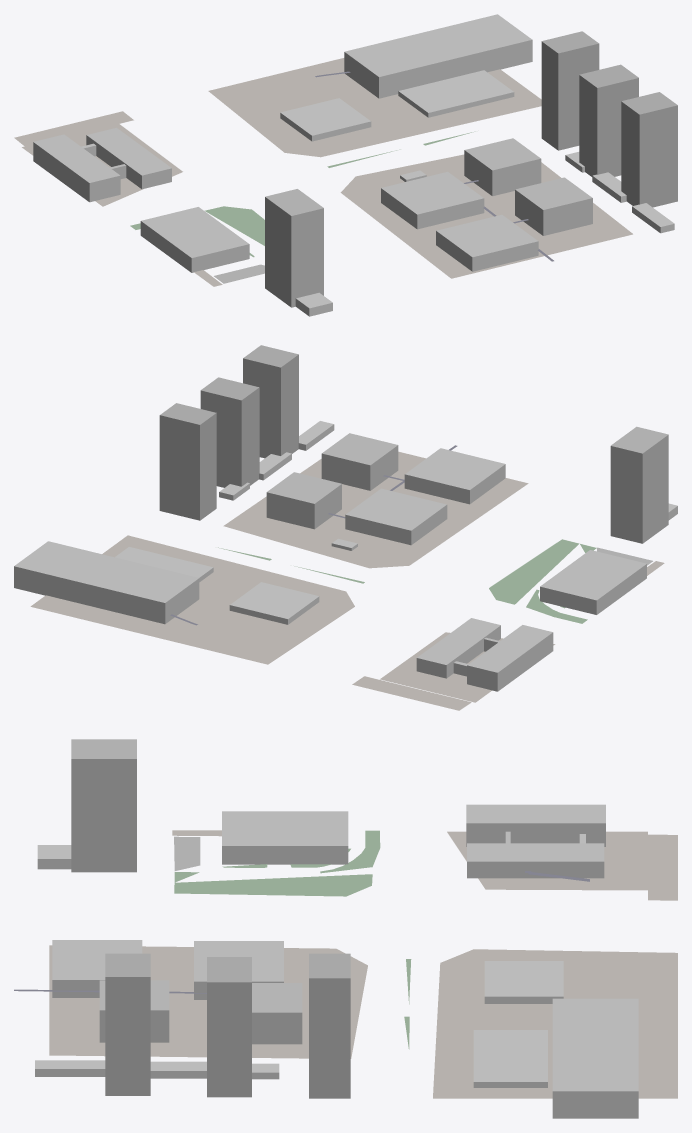
Rendered from 120_75_mid.glb.
3 views of the same model, one above another, from view 1: azimuth 30°, elevation 25°; view 2: azimuth 150°, elevation 25°; view 3: azimuth 270°, elevation 25° (orthographic). The views are drawn at different scales.
Bounding box in the file's own units: 543 × 106 × 528.
